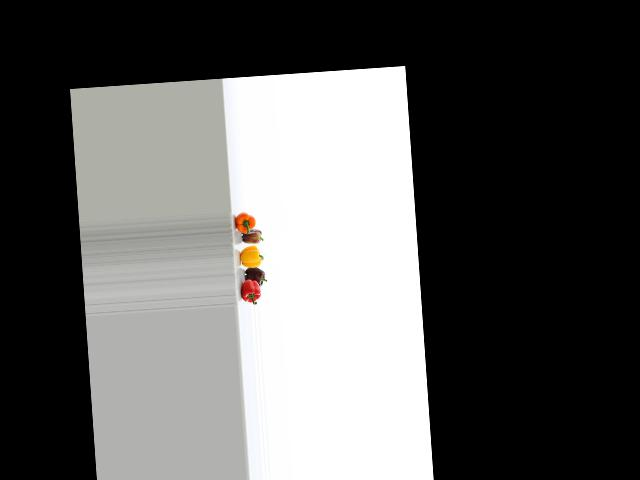bell_pepper: (232, 210, 263, 234)
